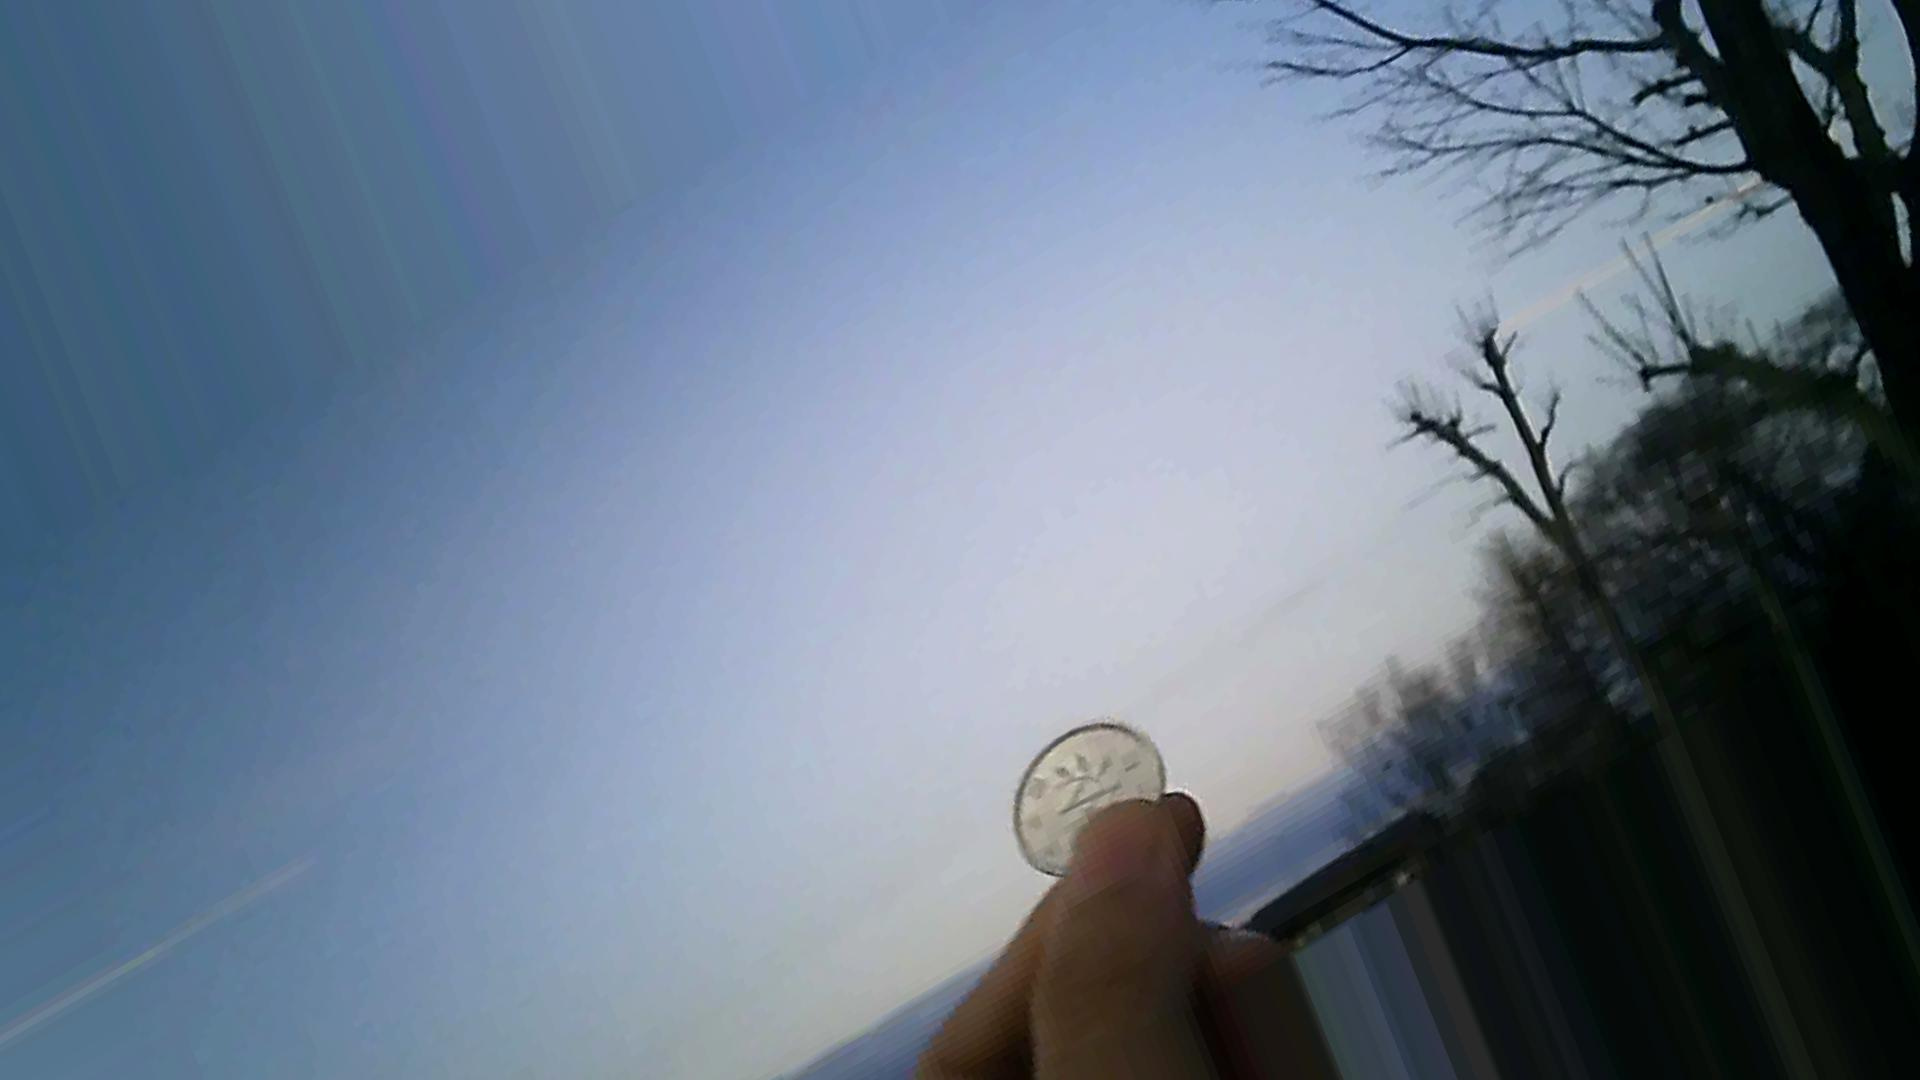1 Yen: (1004, 721, 1185, 893)
